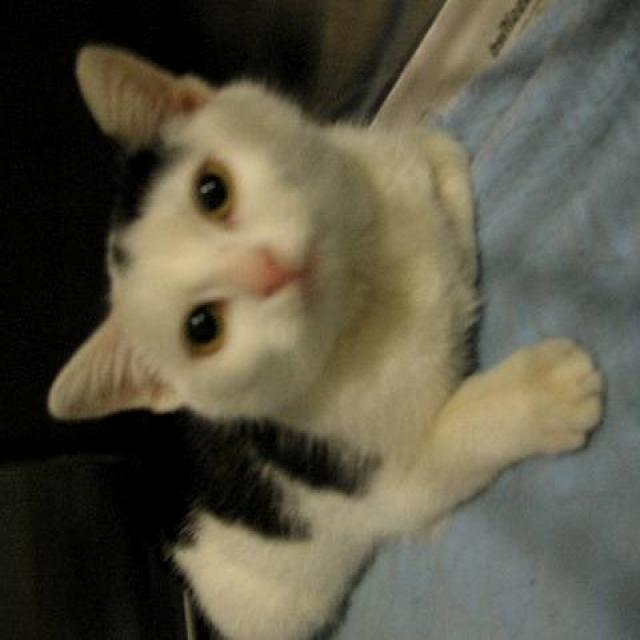Kucing: (24, 0, 576, 635)
